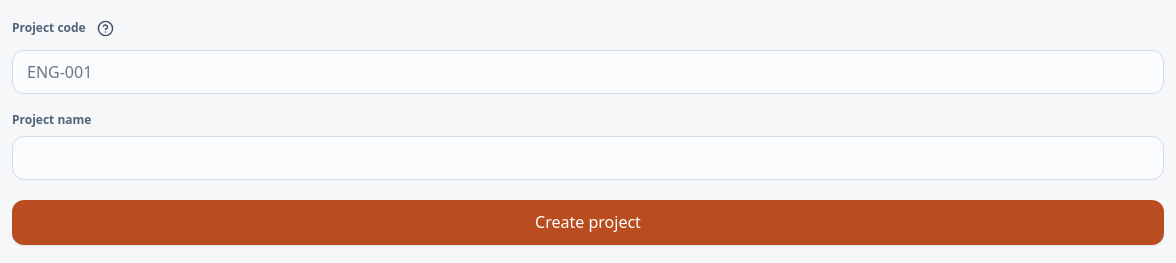
Test case: embeds without a duplicate card, heading or padding and keeps accessible input labels
Click the button named "Project code format": (106, 28) [90,12,122,44]
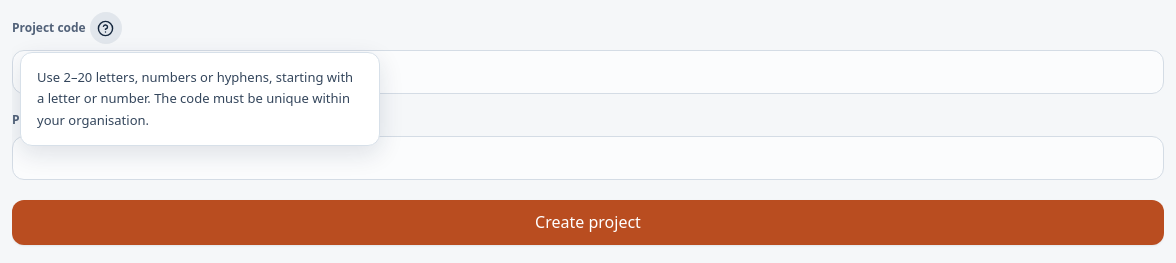
Check: the tooltip shows "Use 2–20 letters, numbers or hyphens", box [37,68,353,129]
Check: the tooltip shows "unique within your organisation", box [37,68,353,129]
